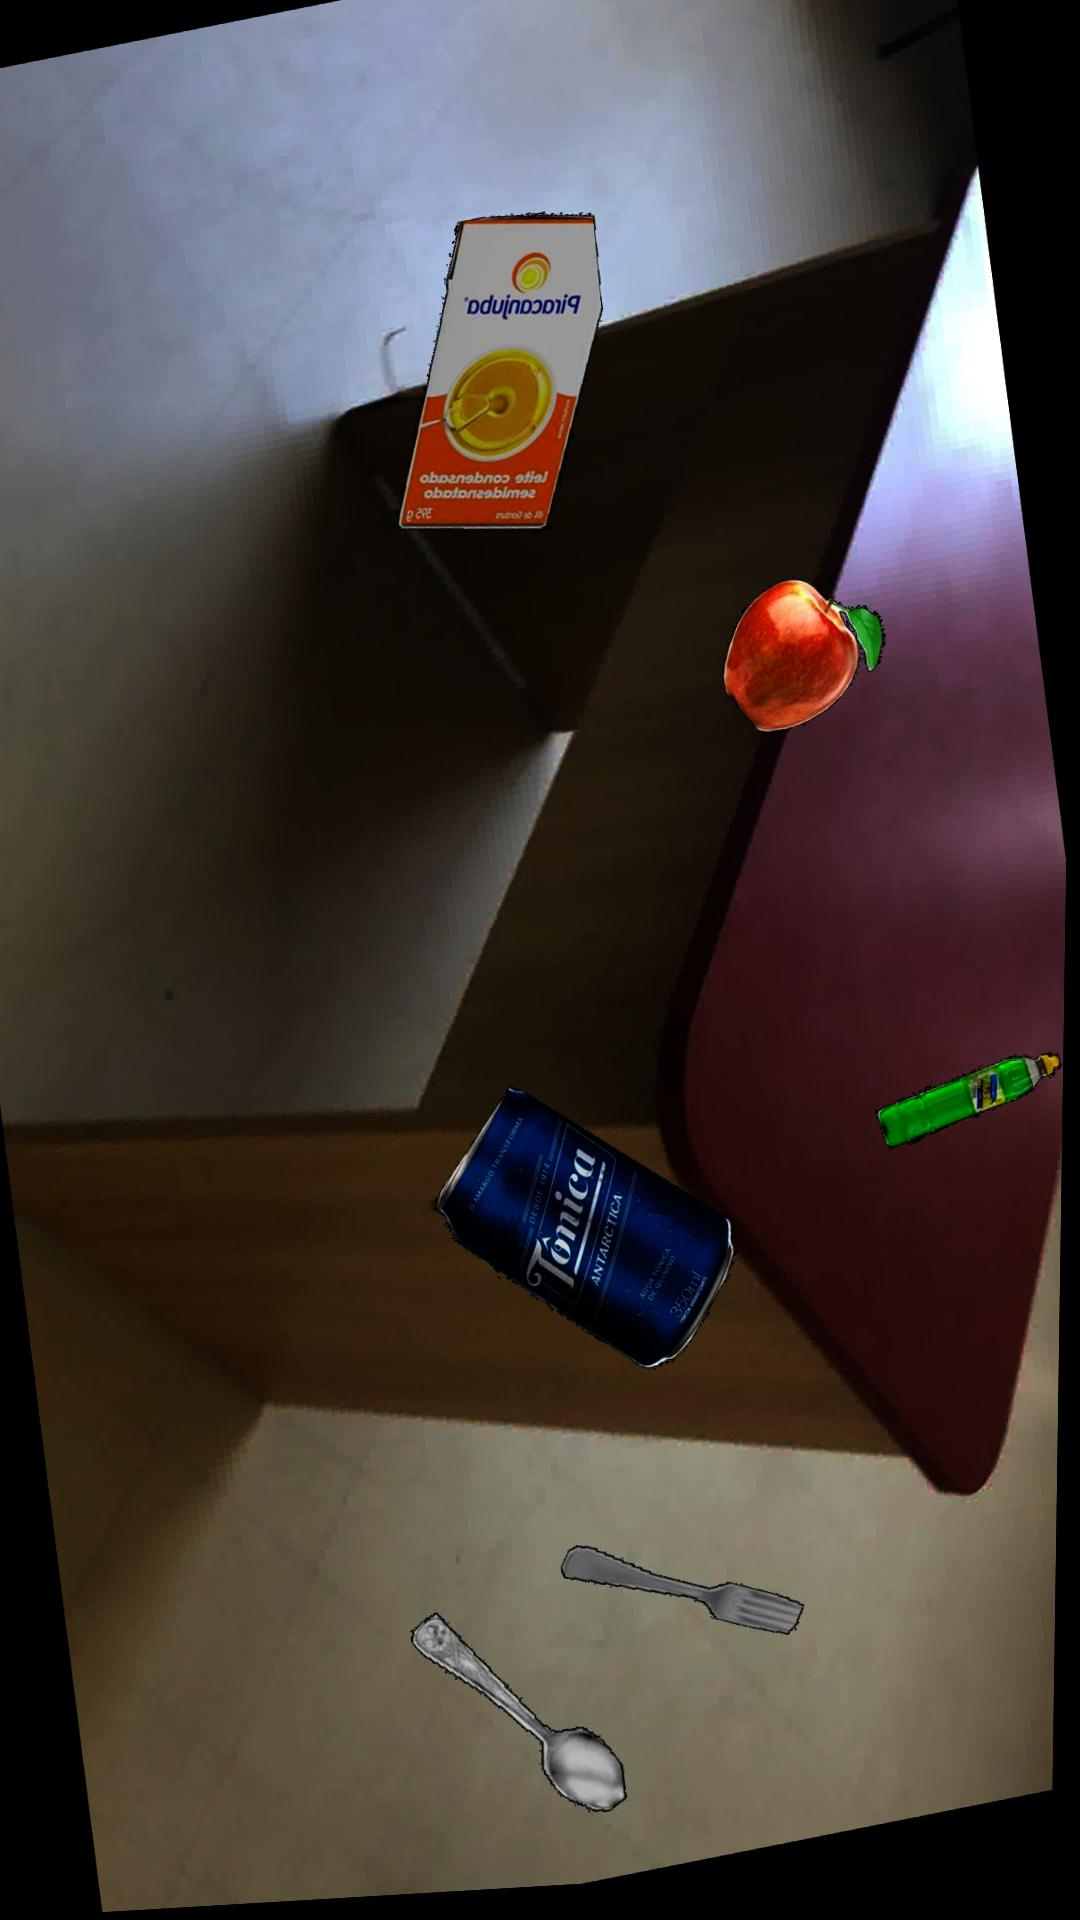apple: (723, 587, 885, 740)
cleaner: (876, 1063, 1062, 1159)
fork: (564, 1551, 806, 1642)
spoon: (414, 1617, 630, 1817)
tonic: (435, 1091, 737, 1374)
